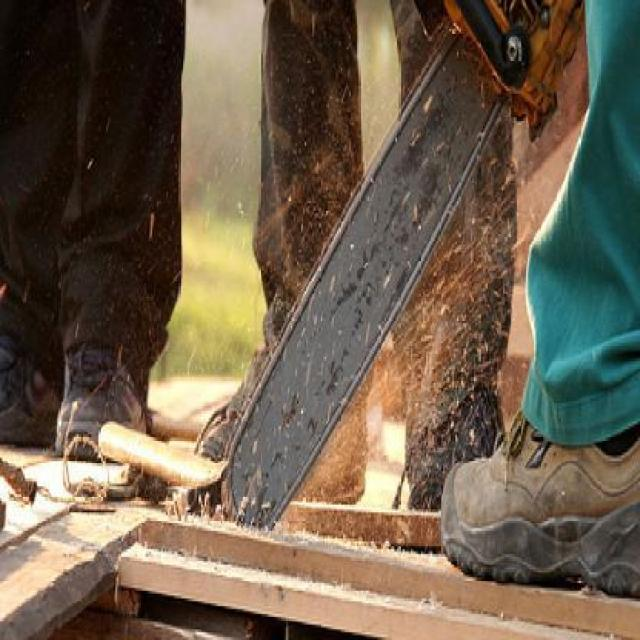Chainsaw: (199, 0, 536, 542)
